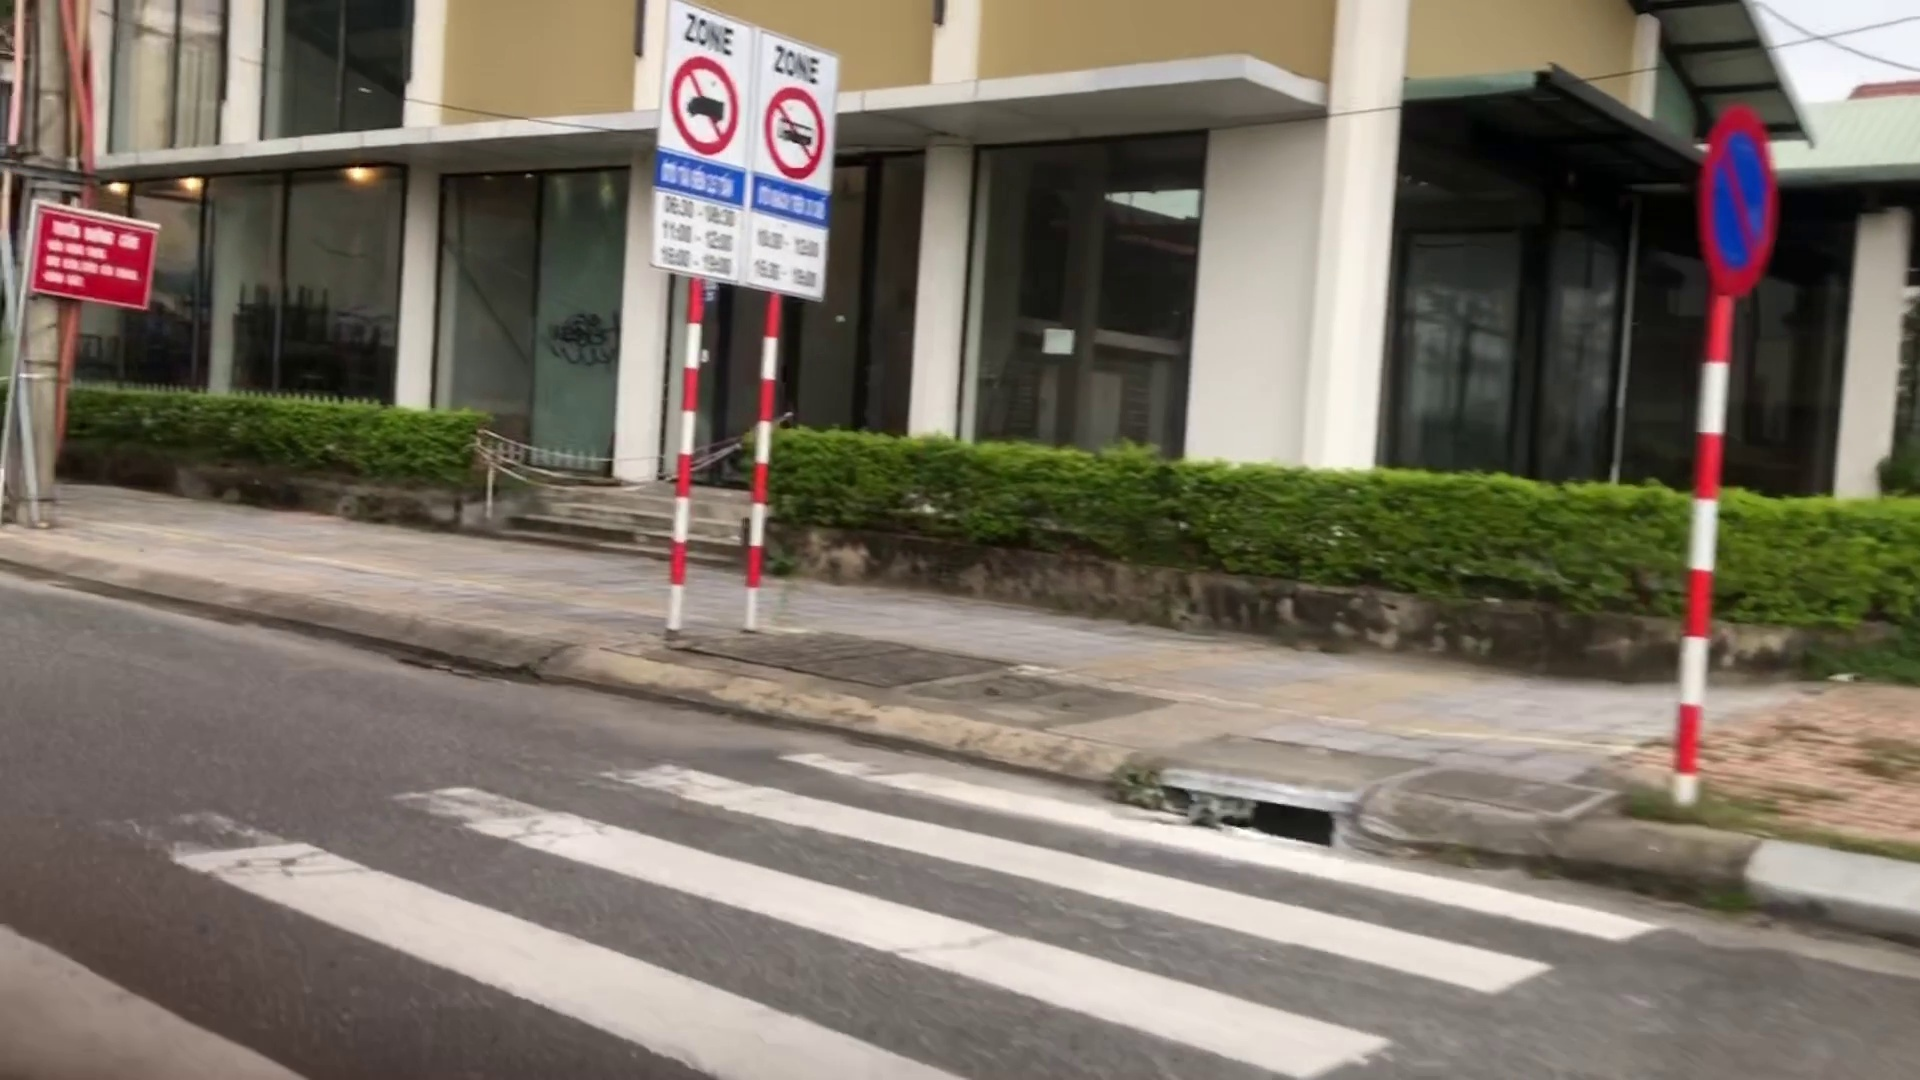Bien khac: (644, 1, 831, 307)
Cam do xe: (1689, 103, 1788, 298)
